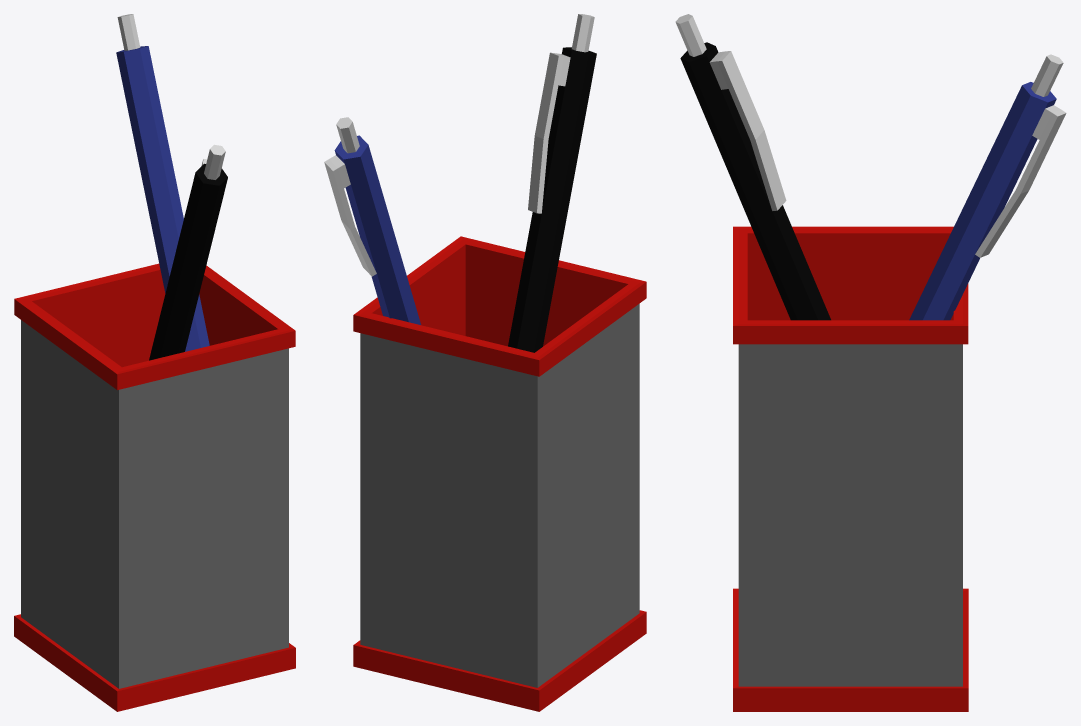
File: P_Can_Pens.fbx
3 views of the same model, side by side, from view 1: azimuth 30°, elevation 25°; view 2: azimuth 150°, elevation 25°; view 3: azimuth 270°, elevation 25° (orthographic). The views are drawn at different scales.
Parts seen in each view (by area): view 1: P_Can_Pens; view 2: P_Can_Pens; view 3: P_Can_Pens.
Part boxes in pixels (box(x1,y1,x2,y2)): P_Can_Pens: box(14, 14, 295, 711); P_Can_Pens: box(324, 14, 646, 711); P_Can_Pens: box(675, 14, 1066, 711).
Bounding box in the file's own units: 45.02 × 74.74 × 135.
